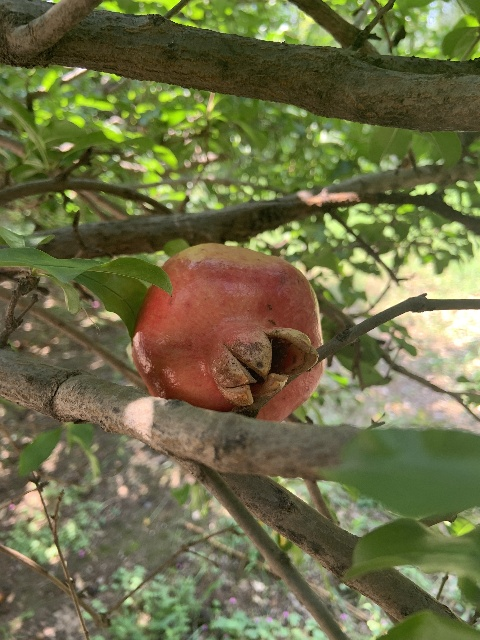ripe: (130, 243, 323, 422)
